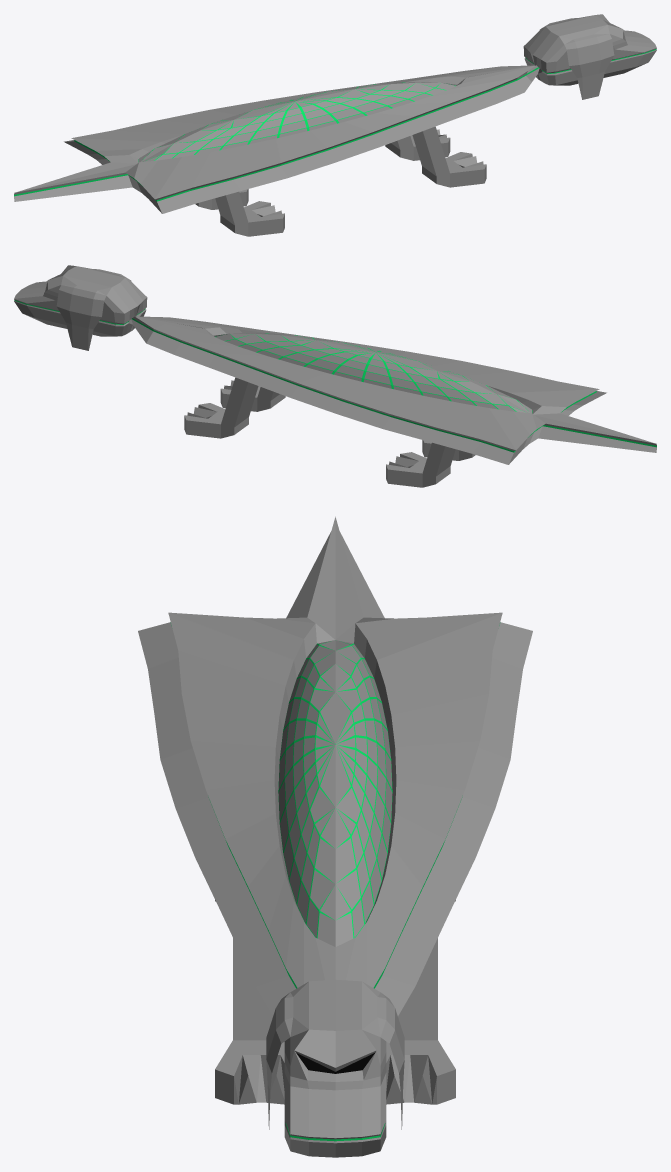
Rendered from Super D.O.G. - Fragmented.fbx.
The picture shows the model from 3 angles, top to bottom: view 1: azimuth 30°, elevation 25°; view 2: azimuth 150°, elevation 25°; view 3: azimuth 270°, elevation 25°; orthographic projection. The views are drawn at different scales.
Parts seen in each view (by area): view 1: Sphere.001, Sphere.002; view 2: Sphere.001, Sphere.002; view 3: Sphere.001, Sphere.002.
Boxes of the visible parts, x1,y1,x2,y2 form: Sphere.001: (14, 66, 531, 236); Sphere.002: (500, 14, 656, 99); Sphere.001: (146, 317, 656, 487); Sphere.002: (14, 265, 169, 350); Sphere.001: (138, 516, 532, 1104); Sphere.002: (266, 979, 404, 1157).
Size of the model in its own units: 31075 by 4959 by 8366.
